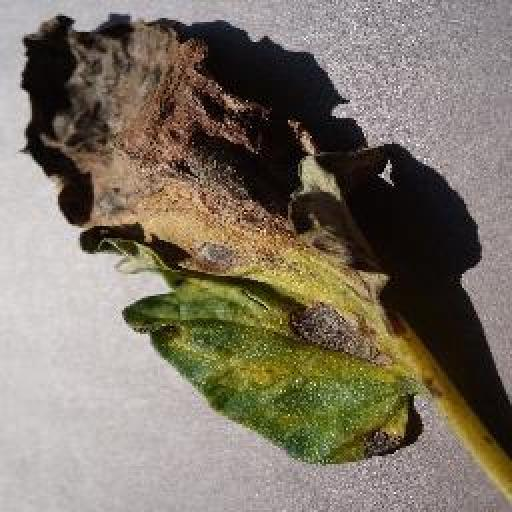Early Blight: (20, 12, 427, 461)
